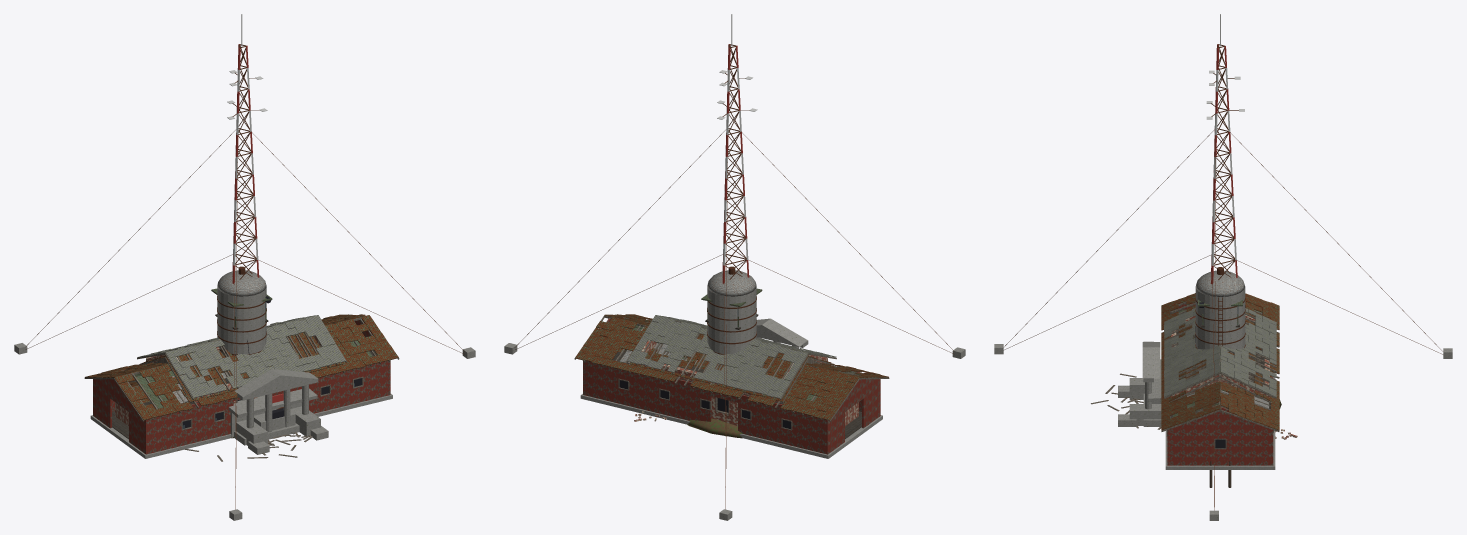
The model's file is props.glb.
3 views of the same model, side by side, from view 1: azimuth 30°, elevation 25°; view 2: azimuth 150°, elevation 25°; view 3: azimuth 270°, elevation 25° (orthographic).
Visible parts, largest first — view 1: barn_long, club, radio_mast, silo_conc, bunker_entrance, barn; view 2: barn_long, club, radio_mast, silo_conc, barn, bunker_entrance; view 3: barn_long, club, radio_mast, silo_conc, bunker_entrance, barn.
Boxes of the visible parts, left/top/right/bottom form: barn_long: left=84, top=314, right=399, bottom=458; club: left=137, top=315, right=346, bottom=458; radio_mast: left=14, top=14, right=475, bottom=520; silo_conc: left=217, top=266, right=266, bottom=356; bunker_entrance: left=228, top=388, right=328, bottom=454; barn: left=140, top=332, right=344, bottom=461; barn_long: left=574, top=314, right=889, bottom=458; club: left=627, top=315, right=836, bottom=426; radio_mast: left=504, top=14, right=965, bottom=520; silo_conc: left=707, top=266, right=756, bottom=354; barn: left=629, top=333, right=833, bottom=402; bunker_entrance: left=687, top=418, right=742, bottom=438; barn_long: left=1107, top=293, right=1279, bottom=469; club: left=1091, top=308, right=1297, bottom=439; radio_mast: left=994, top=14, right=1452, bottom=520; silo_conc: left=1195, top=267, right=1245, bottom=353; bunker_entrance: left=1118, top=359, right=1281, bottom=426; barn: left=1120, top=319, right=1271, bottom=403.
Size of the model in its own units: 34.94 by 38.75 by 38.89.
Materials: 67 (48 with a texture image).
